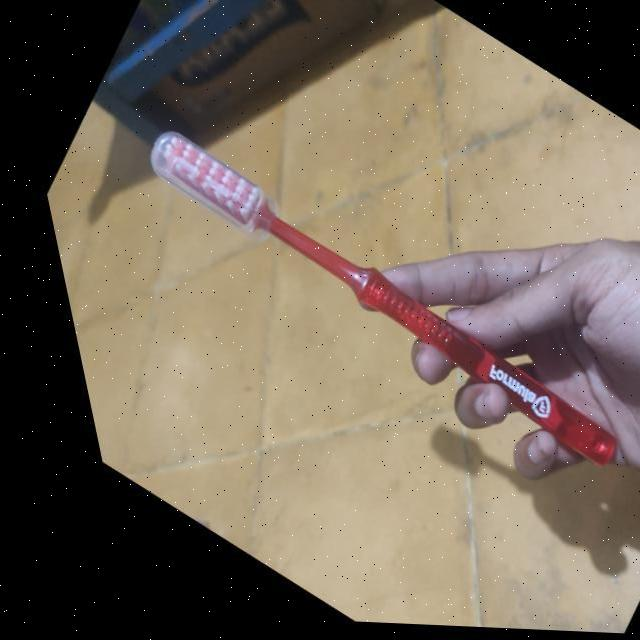toothbrush: (80, 92, 640, 510)
